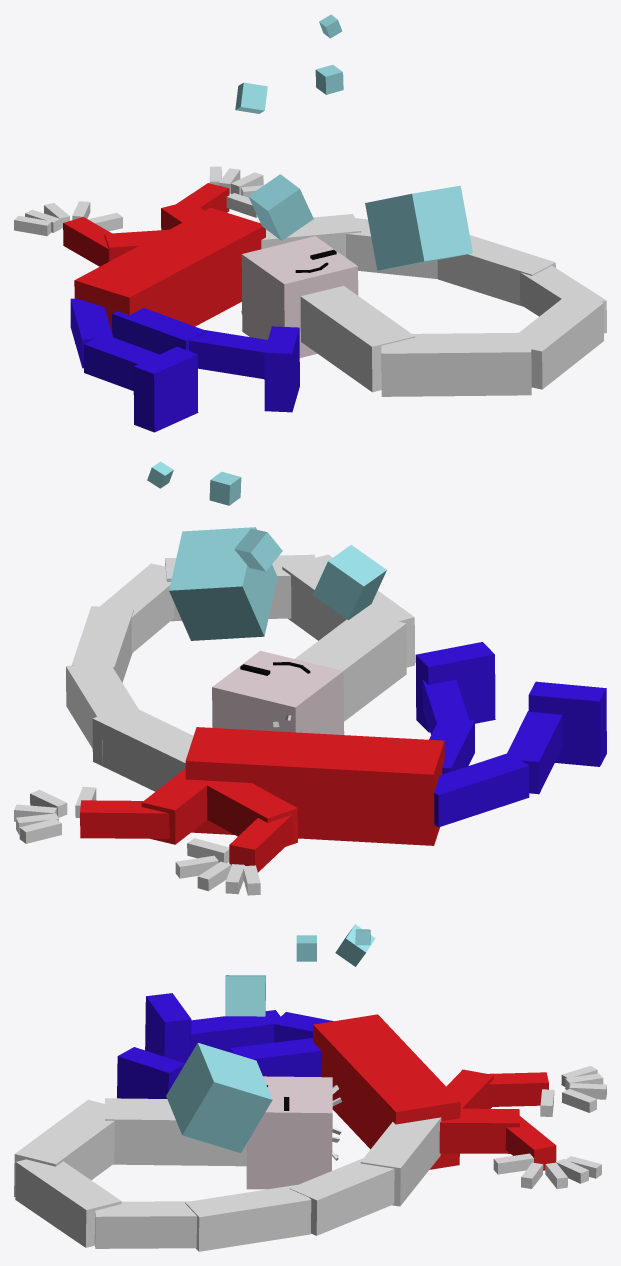
The model's file is RESTFUL(idkwhatimdoubng).glb.
The picture shows the model from 3 angles, top to bottom: view 1: azimuth 30°, elevation 25°; view 2: azimuth 150°, elevation 25°; view 3: azimuth 270°, elevation 25°; orthographic projection. The views are drawn at different scales.
Parts seen in each view (by area): view 1: Cube.009, Cube.038, Cube.003, Cube, Cube.028, Cube.002, Cube.004, Cube.006, Cube.029, Cube.005, Cube.008, Cube.007 (+3 smaller); view 2: Cube.009, Cube.038, Cube.028, Cube, Cube.002, Cube.008, Cube.003, Cube.029, Cube.007, Cube.005, Cube.006, Cube.004 (+6 smaller); view 3: Cube.009, Cube.038, Cube, Cube.028, Cube.002, Cube.006, Cube.004, Cube.007, Cube.003, Cube.005, Cube.008, Cube.029 (+6 smaller).
Boxes of the visible parts, <box> form: Cube.009: <box>63,183,265,343</box>; Cube.038: <box>70,298,299,432</box>; Cube.003: <box>381,332,531,396</box>; Cube: <box>241,236,358,357</box>; Cube.028: <box>365,185,472,270</box>; Cube.002: <box>300,286,415,392</box>; Cube.004: <box>519,295,603,389</box>; Cube.006: <box>437,235,555,306</box>; Cube.029: <box>248,174,313,240</box>; Cube.005: <box>520,266,606,333</box>; Cube.008: <box>258,214,361,257</box>; Cube.007: <box>346,218,437,278</box>; Cube.009: <box>80,727,444,872</box>; Cube.038: <box>415,642,606,827</box>; Cube.028: <box>169,527,277,640</box>; Cube: <box>212,650,344,734</box>; Cube.002: <box>295,612,406,721</box>; Cube.008: <box>92,704,193,791</box>; Cube.003: <box>282,554,414,667</box>; Cube.029: <box>312,545,386,620</box>; Cube.007: <box>66,661,138,764</box>; Cube.005: <box>100,563,174,652</box>; Cube.006: <box>71,606,133,682</box>; Cube.004: <box>165,554,315,621</box>; Cube.009: <box>313,1014,556,1170</box>; Cube.038: <box>117,993,333,1098</box>; Cube: <box>246,1076,332,1189</box>; Cube.028: <box>166,1043,272,1152</box>; Cube.002: <box>105,1098,247,1166</box>; Cube.006: <box>185,1185,311,1251</box>; Cube.004: <box>15,1159,121,1247</box>; Cube.007: <box>289,1158,404,1235</box>; Cube.003: <box>14,1100,114,1196</box>; Cube.005: <box>94,1201,196,1248</box>; Cube.008: <box>360,1117,441,1206</box>; Cube.029: <box>225,975,265,1016</box>.
Size of the model in its own units: 11.81 by 7.17 by 13.95.
